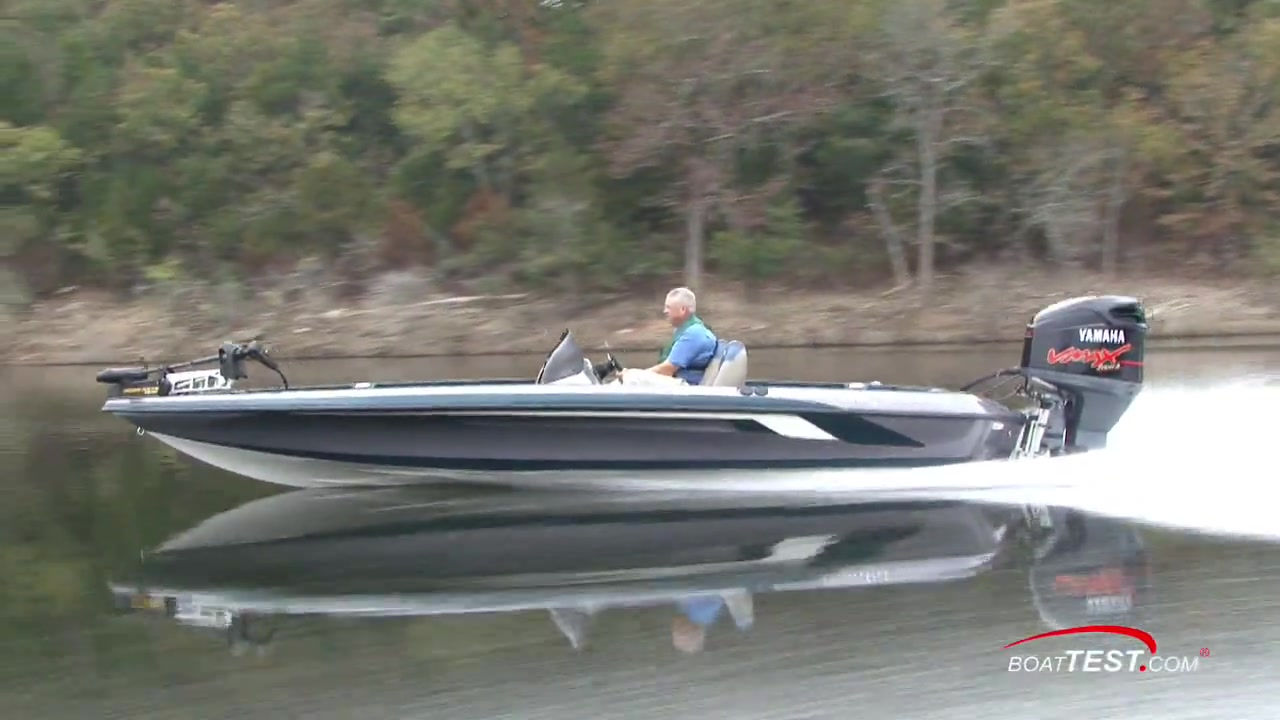boat: (95, 296, 1147, 492)
